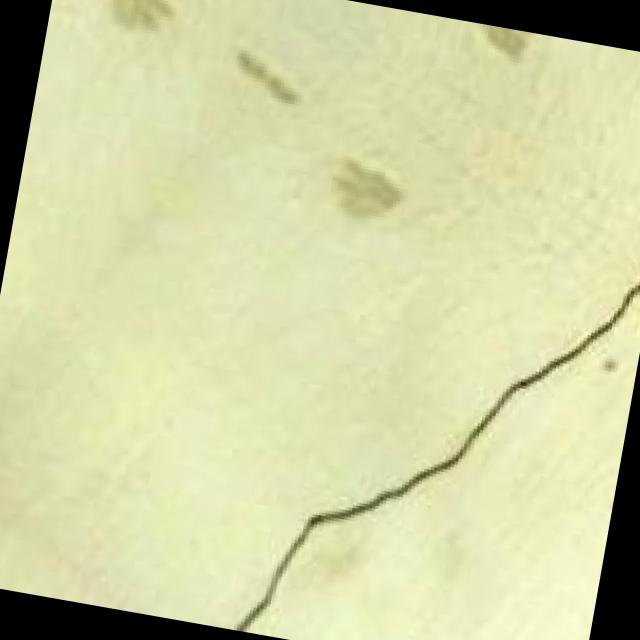crack: (236, 189, 640, 640)
